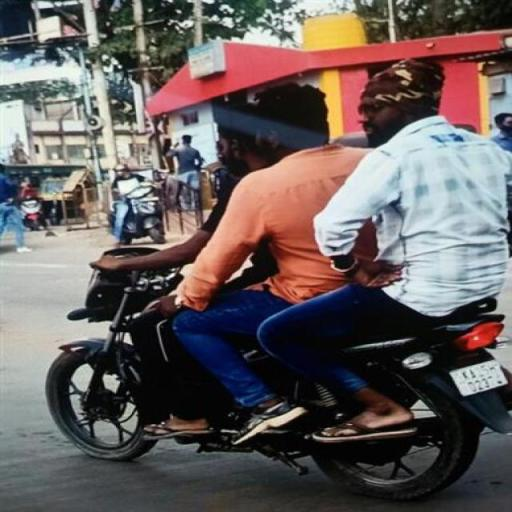tripple riding: (78, 60, 508, 306)
